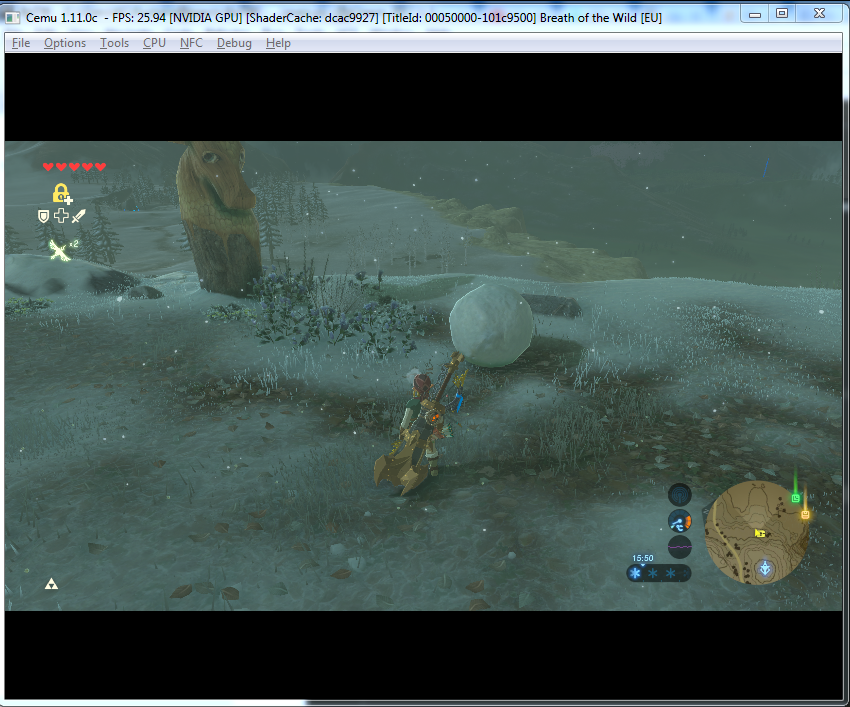link: (381, 336, 466, 513)
snowball: (441, 279, 532, 375)
totem: (170, 140, 283, 303)
